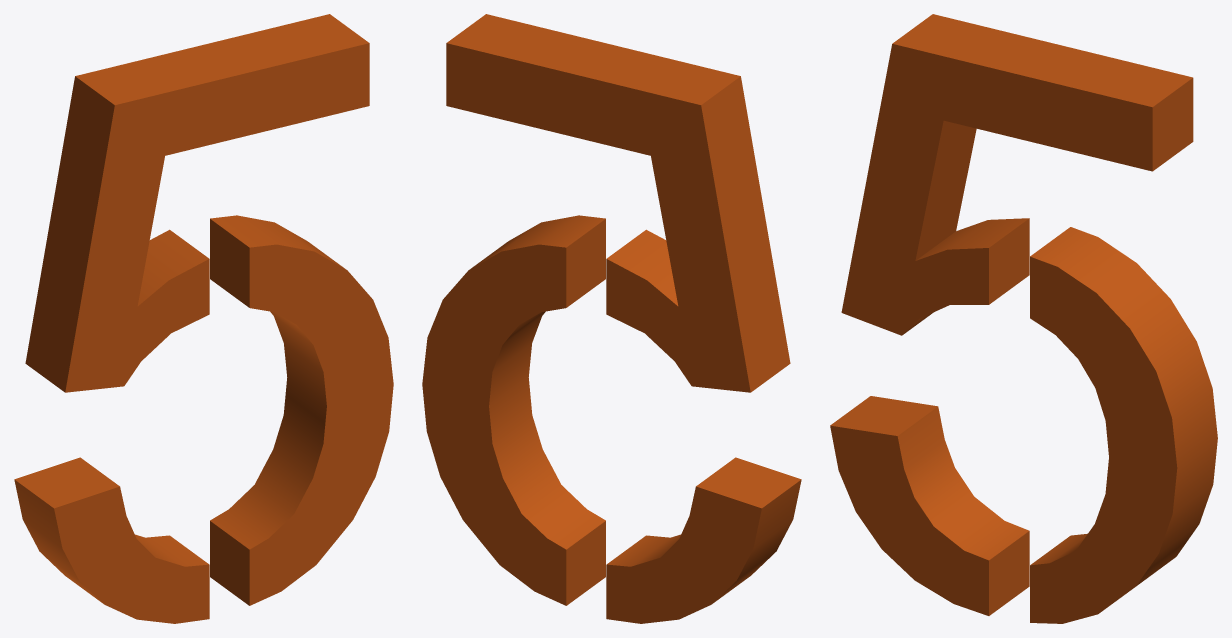
The model's file is five_3006_01.obj.
3 views of the same model, side by side, from view 1: azimuth 30°, elevation 25°; view 2: azimuth 150°, elevation 25°; view 3: azimuth 330°, elevation 25° (orthographic). The views are drawn at different scales.
Parts seen in each view (by area): view 1: polySurface649; view 2: polySurface649; view 3: polySurface649.
Part boxes in pixels (box(x1,y1,x2,y2)): polySurface649: box(14, 14, 393, 623); polySurface649: box(422, 14, 801, 623); polySurface649: box(830, 14, 1217, 623).
Bounding box in the file's own units: 0.8475 × 1.28 × 0.1719.
